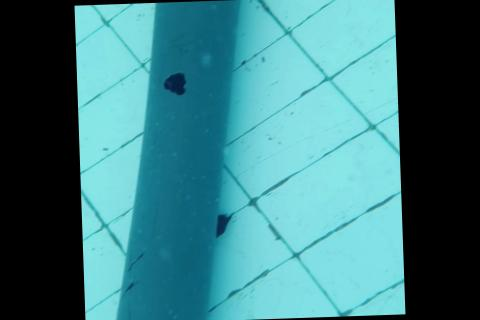kebocoran: (161, 70, 187, 95)
keretakan: (119, 246, 146, 320)
